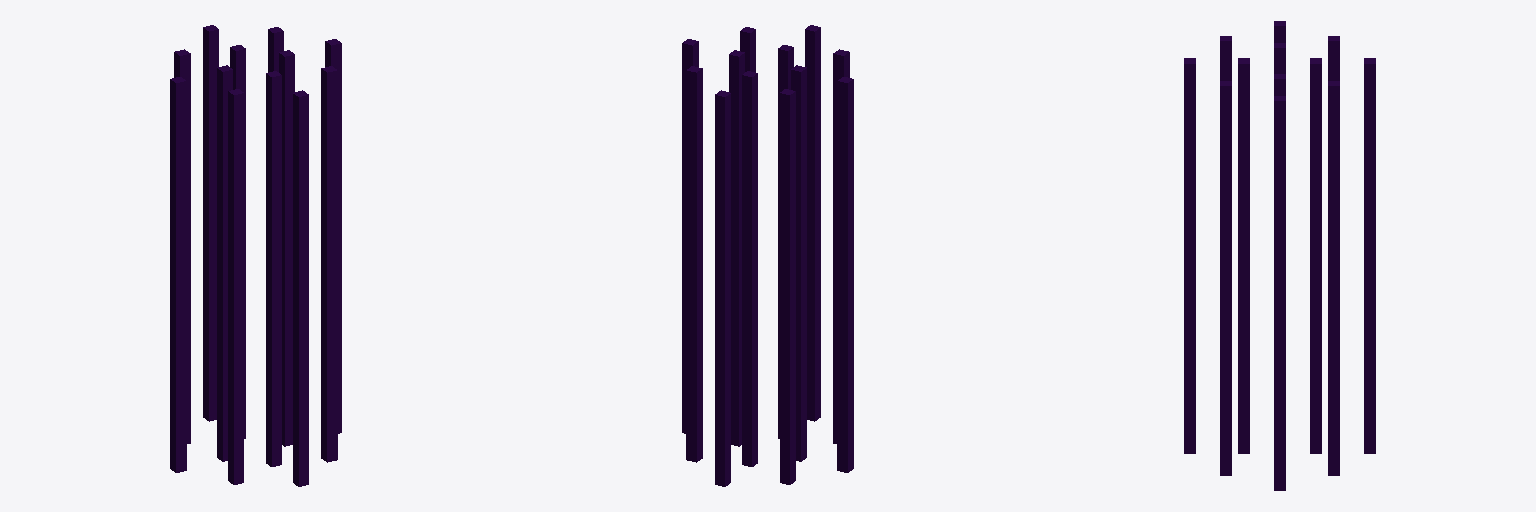
The model's file is magic2.obj.
3 views of the same model, side by side, from view 1: azimuth 30°, elevation 25°; view 2: azimuth 150°, elevation 25°; view 3: azimuth 270°, elevation 25° (orthographic).
Bounding box in the file's own units: 128 × 288 × 128.